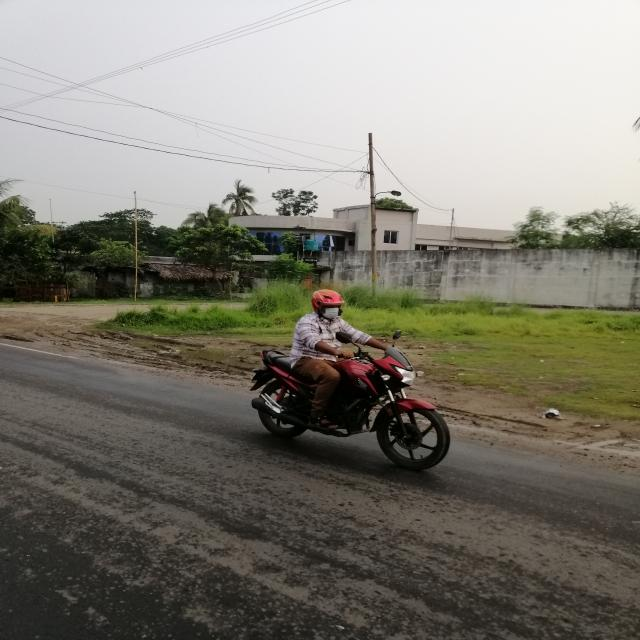Motorbike: (221, 328, 476, 485)
